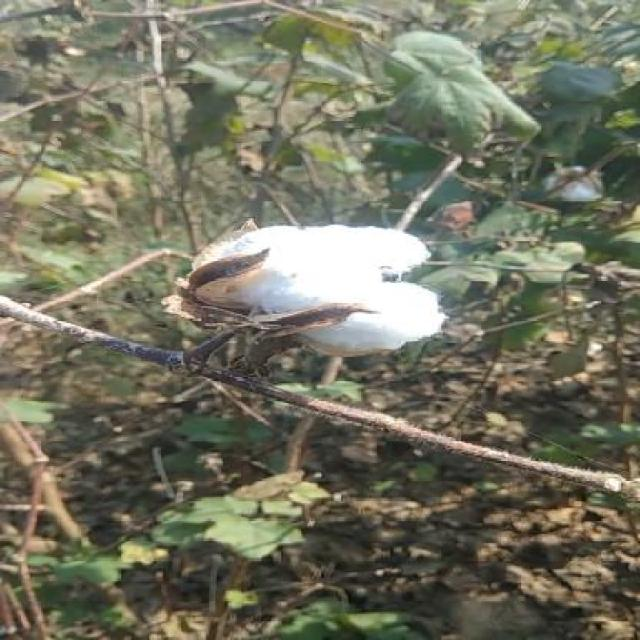cotton_ready: (148, 197, 446, 437)
